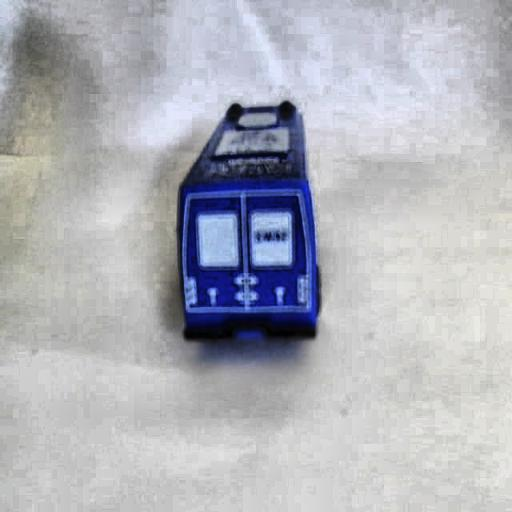police car: (173, 99, 322, 349)
